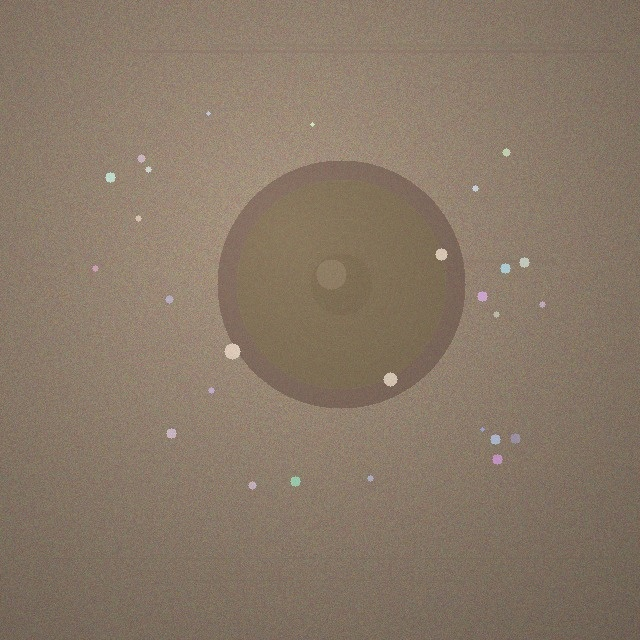overburn: (217, 160, 465, 408)
